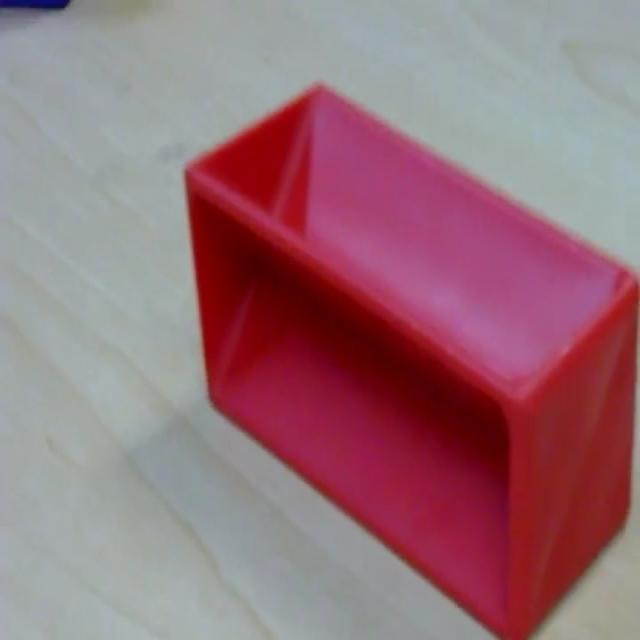red_block: (182, 79, 638, 636)
